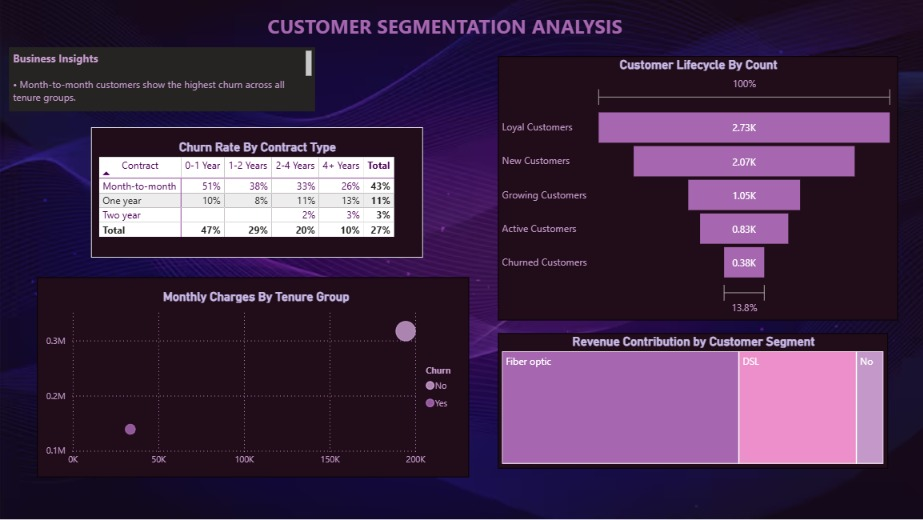

What the dashboard file says about the page in this screenshot:
{"tool":"powerbi","page":{"name":"Customer Segmentation","canvas":[1280,720],"ordinal":1},"visuals":[{"type":"textbox","box":[367.8,19.2,543.4,127.6],"z":0},{"type":"pivotTable","title":"Churn Rate By Contract Type","fields":{"Rows":["Telco-Customer-Churn.Contract"],"Values":["Telco-Customer-Churn.Churn Rate"],"Columns":["Telco-Customer-Churn.Tenure Group"]},"box":[130.4,181.1,455.6,178.4],"z":1000},{"type":"scatterChart","title":"Monthly Charges By Tenure Group","fields":{"X":["Sum(Telco-Customer-Churn.tenure)"],"Y":["Sum(Telco-Customer-Churn.MonthlyCharges)"],"Size":["Sum(Telco-Customer-Churn.TotalCharges)"],"Series":["Telco-Customer-Churn.Churn"]},"box":[56.3,387,592.8,274.4],"z":2000},{"type":"funnel","title":"Customer Lifecycle By Count","fields":{"Category":["Telco-Customer-Churn.Customer Lifecycle"],"Y":["CountNonNull(Telco-Customer-Churn.customerID)"]},"box":[688.9,83.7,548.9,362.3],"z":3000},{"type":"treemap","title":"Revenue Contribution by Customer Segment","fields":{"Group":["Telco-Customer-Churn.InternetService"],"Values":["Sum(Telco-Customer-Churn.MonthlyCharges)"]},"box":[688.9,463.8,535.2,185.2],"z":4000},{"type":"textbox","box":[17.8,71.4,419.9,87.8],"z":5000}]}

Visuals, with their boxes in screenshot pixels (x1, y1, x2, y2), scaled from the page's 1280x720 canvas onto the 923x520 screenshot:
textbox: (265,14,657,106)
"Churn Rate By Contract Type" pivotTable: (94,131,423,260)
"Monthly Charges By Tenure Group" scatterChart: (41,280,468,478)
"Customer Lifecycle By Count" funnel: (497,60,893,322)
"Revenue Contribution by Customer Segment" treemap: (497,335,883,469)
textbox: (13,52,316,115)
